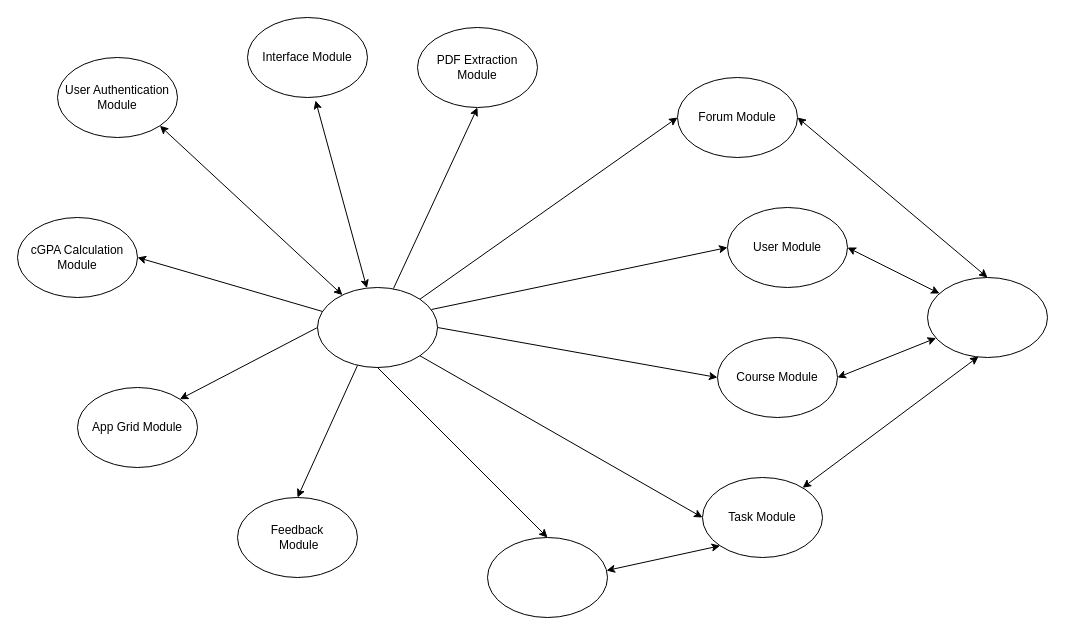
Image size: 1065x635. Some labels were removed from this diagram. The shapes that lost their labels are listed below. From the top down, each one's centre as x and y in pixels, then its label:
At pixel 377 327: "Back End Web Service Module".
At pixel 987 317: "Database Module".
At pixel 547 577: "Pomodoro Module".
